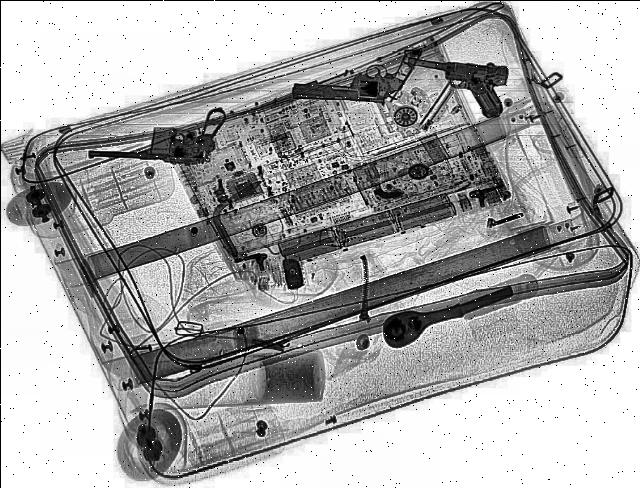Gun: (84, 99, 228, 165), (398, 54, 518, 118), (290, 45, 418, 103)
